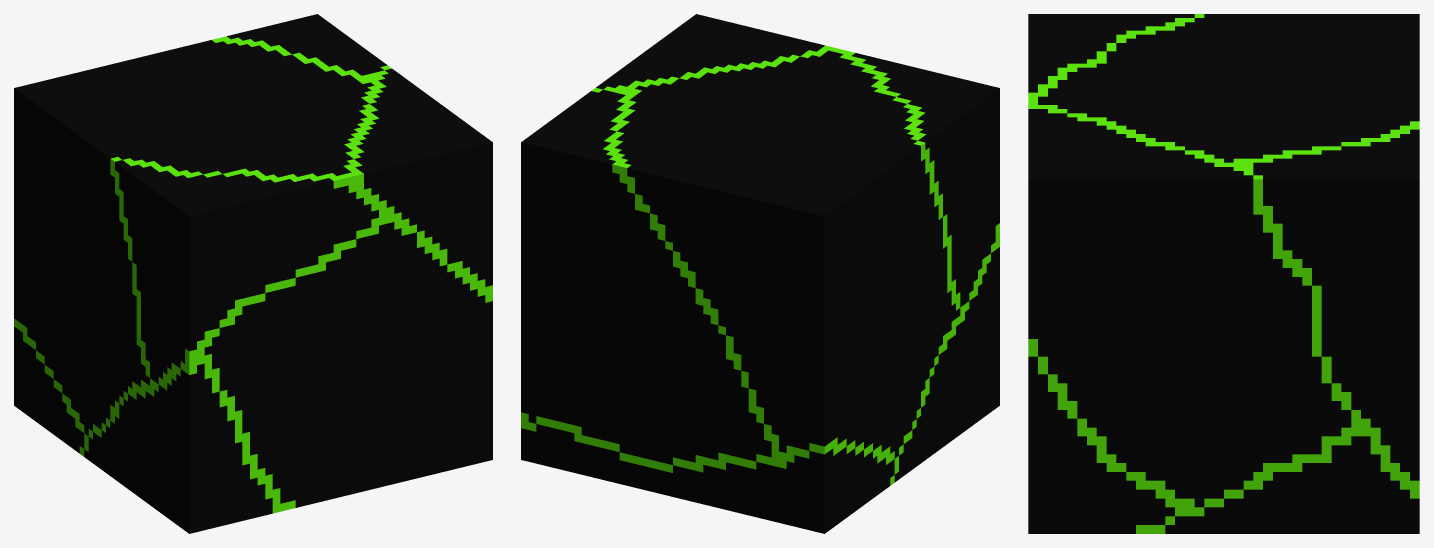
Rendered from Modulo Piso 1.obj.
3 views of the same model, side by side, from view 1: azimuth 30°, elevation 25°; view 2: azimuth 150°, elevation 25°; view 3: azimuth 270°, elevation 25° (orthographic). The views are drawn at different scales.
Bounding box in the file's own units: 4 × 4 × 4.
Materials: 1 (1 with a texture image).
